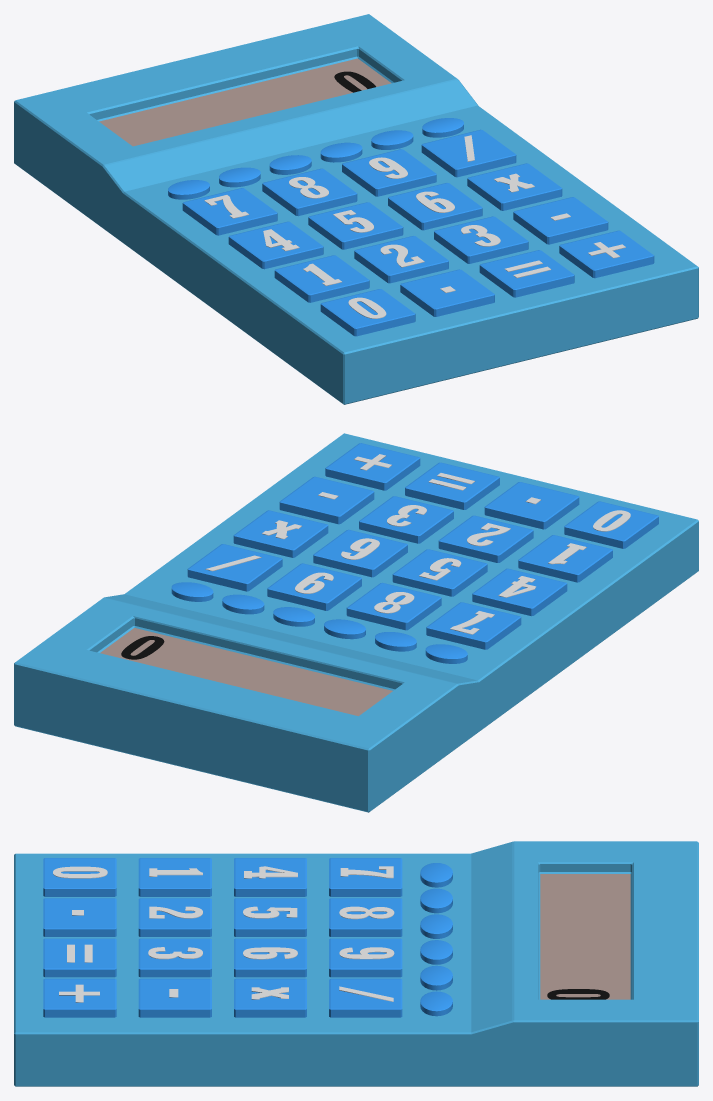
The model's file is calculator.fbx.
The picture shows the model from 3 angles, top to bottom: view 1: azimuth 30°, elevation 25°; view 2: azimuth 150°, elevation 25°; view 3: azimuth 270°, elevation 25°; orthographic projection. The views are drawn at different scales.
Visible parts, largest first — view 1: Cube.015, Cube.018, Text.006, Cylinder.058; view 2: Cube.015, Cube.018, Text.006, Cylinder.058; view 3: Cube.015, Cube.018, Text.006, Cylinder.058, Text.002.
Part boxes in pixels (x1,y1,x2,y2): Cube.015: [14, 14, 698, 404]; Cube.018: [182, 129, 654, 336]; Text.006: [204, 135, 625, 318]; Cylinder.058: [168, 118, 463, 199]; Cube.015: [14, 433, 698, 812]; Cube.018: [187, 443, 658, 649]; Text.006: [205, 454, 630, 634]; Cylinder.058: [171, 582, 467, 663]; Cube.015: [14, 841, 698, 1086]; Cube.018: [43, 858, 402, 1017]; Text.006: [53, 866, 394, 1002]; Cylinder.058: [420, 863, 452, 1016]; Text.002: [547, 989, 609, 999].
Size of the model in its own units: 491 by 84.33 by 788.
